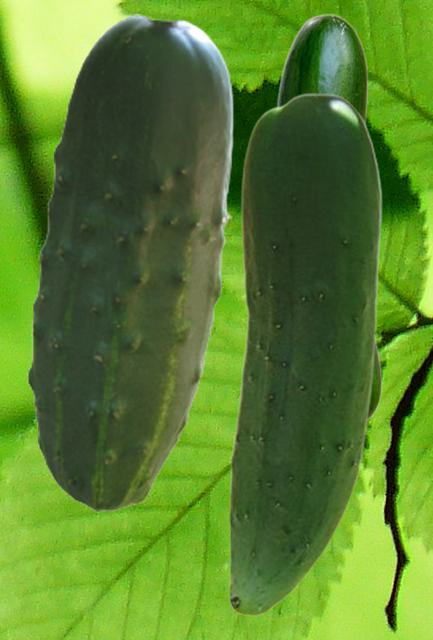cucumber: (27, 14, 233, 511), (228, 93, 381, 615), (274, 13, 381, 419)
